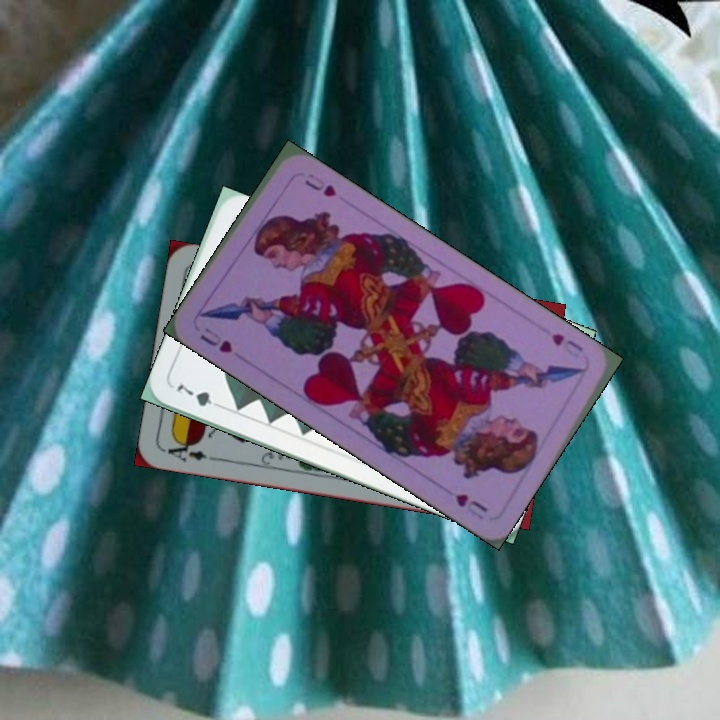EA: (163, 436, 220, 464)
G7: (172, 380, 227, 412)
HU: (195, 323, 235, 356), (547, 329, 586, 354)
